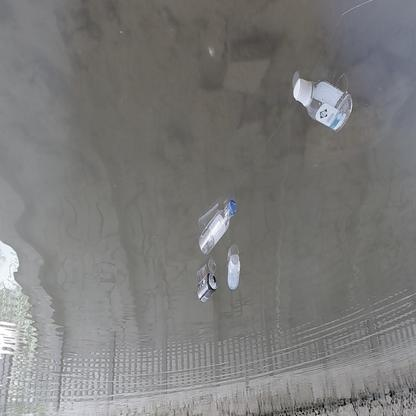can: (195, 273, 219, 302)
plastic bottle: (294, 76, 353, 132), (199, 200, 238, 255), (228, 252, 241, 291)
